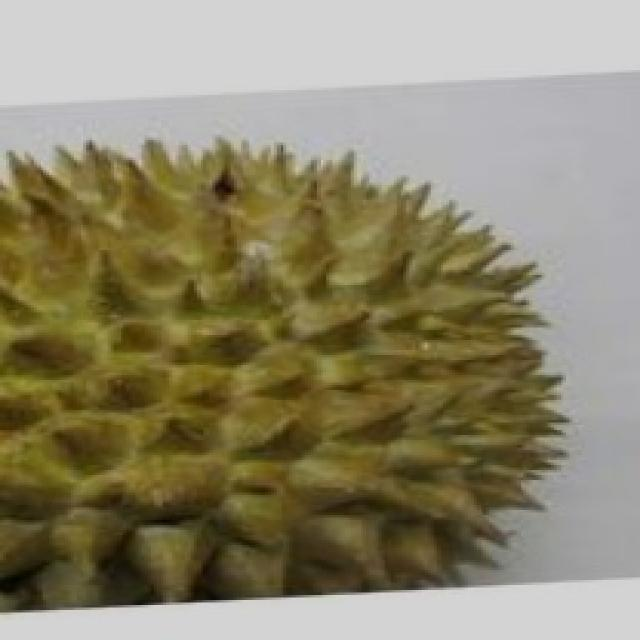fruit: (277, 158, 609, 562)
